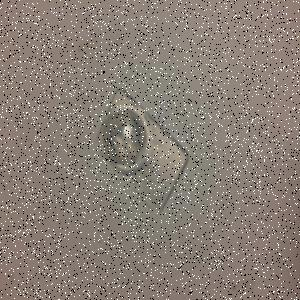Trash: (96, 88, 190, 214)
